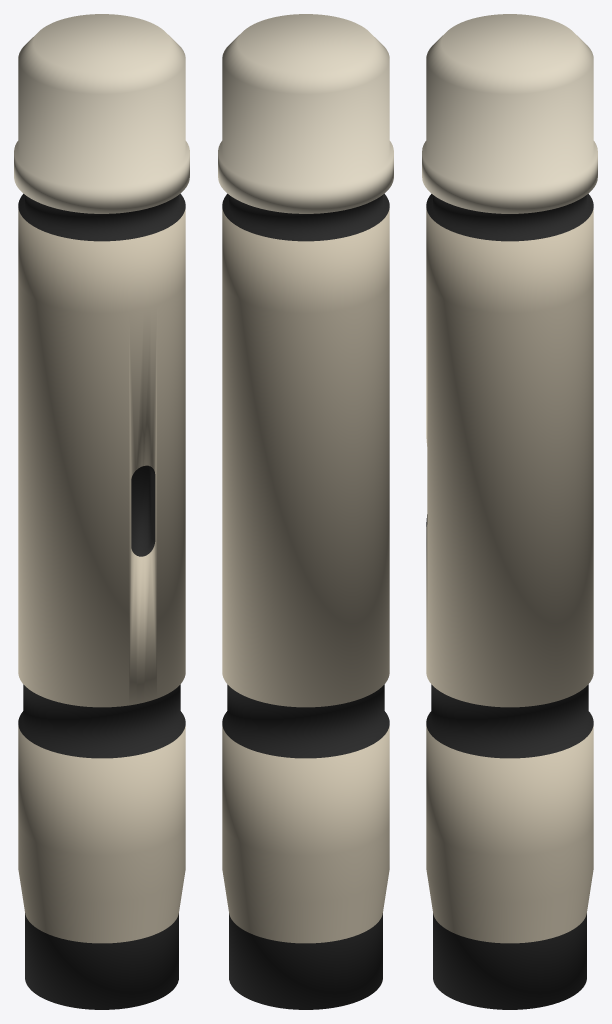
Rendered from BehringerC2.glb.
3 views of the same model, side by side, from view 1: azimuth 30°, elevation 25°; view 2: azimuth 150°, elevation 25°; view 3: azimuth 270°, elevation 25° (orthographic).
Parts seen in each view (by area): view 1: BehringerC2_Body; view 2: BehringerC2_Body; view 3: BehringerC2_Body.
Boxes of the visible parts, bbox=[...] form: BehringerC2_Body: bbox=[14, 14, 189, 1009]; BehringerC2_Body: bbox=[218, 14, 393, 1009]; BehringerC2_Body: bbox=[422, 14, 597, 1009].
Bounding box in the file's own units: 0.022 × 0.13 × 0.022.
